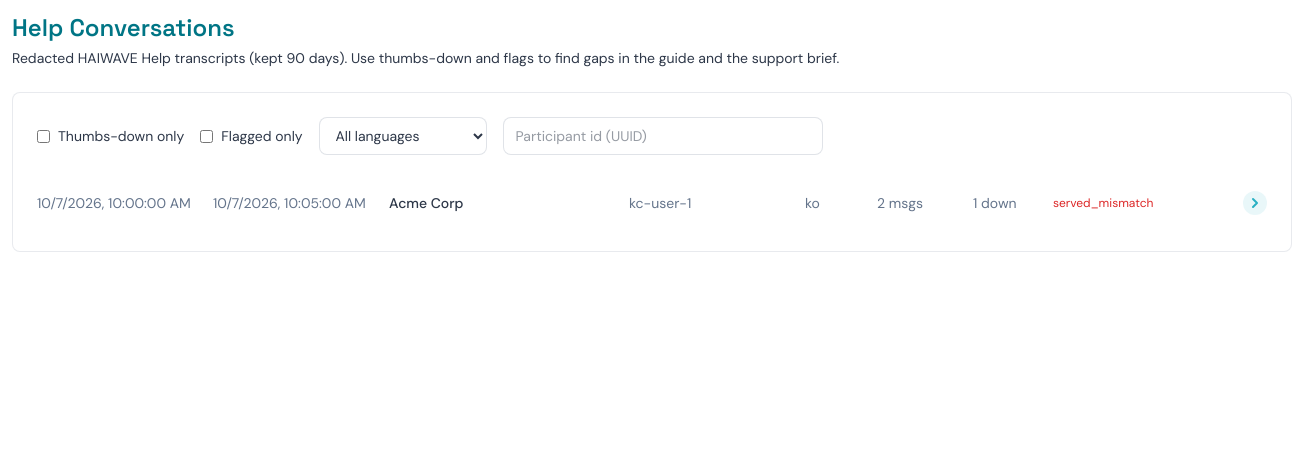
it: AdminHelpPage › each message shows its own status (interrupted, withheld)
What coordinates should you click on to do the following:
click the button with aria-label "Conversation 0b8a5a52-58b6-4a8e-9a39-9a1d4c7f1f10"
I would click on:
 (652, 203)
Its box is [37, 179, 1267, 227].
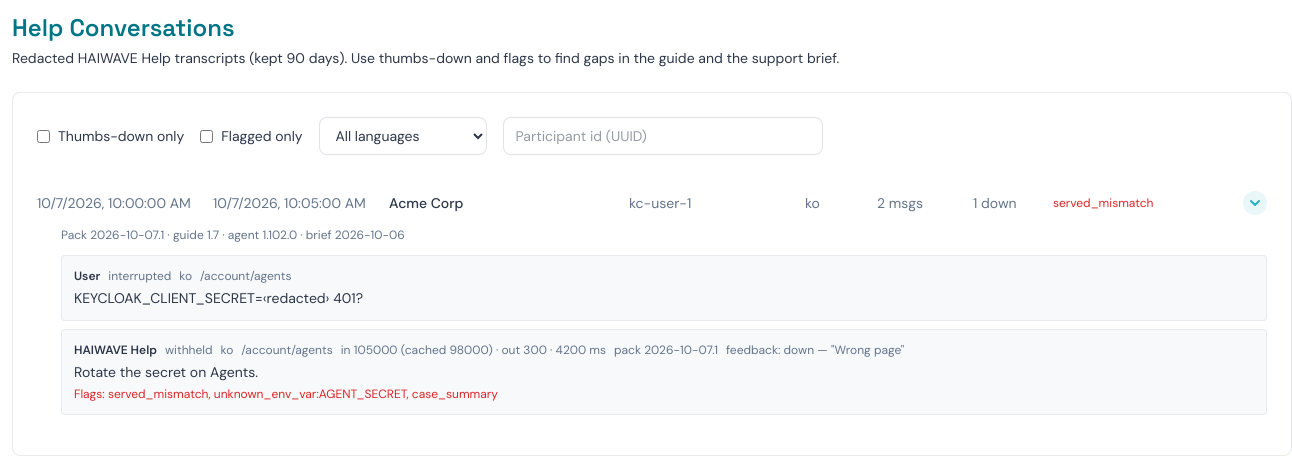
Now the text "interrupted" is shown, box [108, 268, 171, 284]
Now the text "withheld" is shown, box [165, 342, 213, 358]
